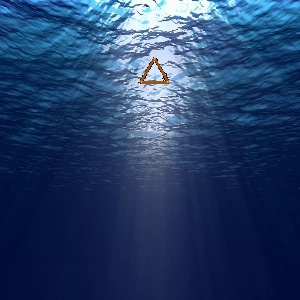triangle: (138, 55, 170, 85)
